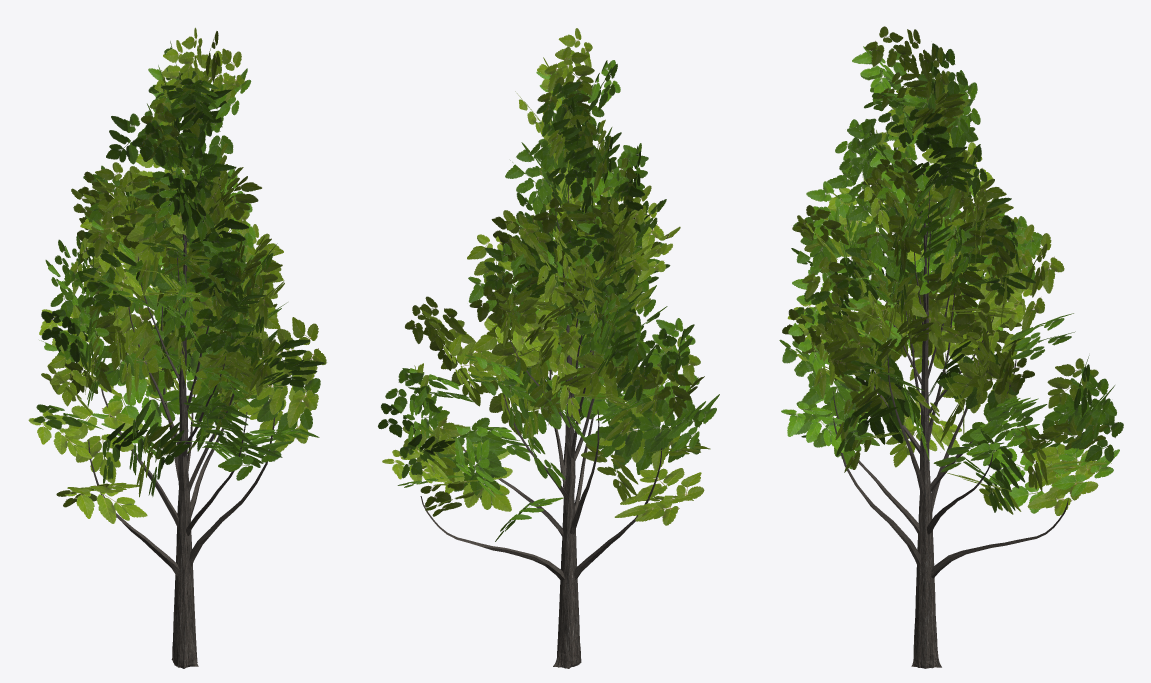
The model's file is treeA.obj.
3 views of the same model, side by side, from view 1: azimuth 30°, elevation 25°; view 2: azimuth 150°, elevation 25°; view 3: azimuth 270°, elevation 25° (orthographic). The views are drawn at different scales.
Parts seen in each view (by area): view 1: g04.001, g03.001; view 2: g04.001, g03.001; view 3: g04.001, g03.001.
Boxes of the visible parts, x1=… form: g04.001: x1=28, y1=27, x2=326, y2=523; g03.001: x1=88, y1=166, x2=274, y2=668; g04.001: x1=378, y1=28, x2=719, y2=541; g03.001: x1=420, y1=170, x2=662, y2=668; g04.001: x1=779, y1=26, x2=1123, y2=515; g03.001: x1=833, y1=170, x2=1068, y2=668.
Size of the model in its own units: 11.67 by 24.3 by 12.57.
2 materials, 2 textured.
